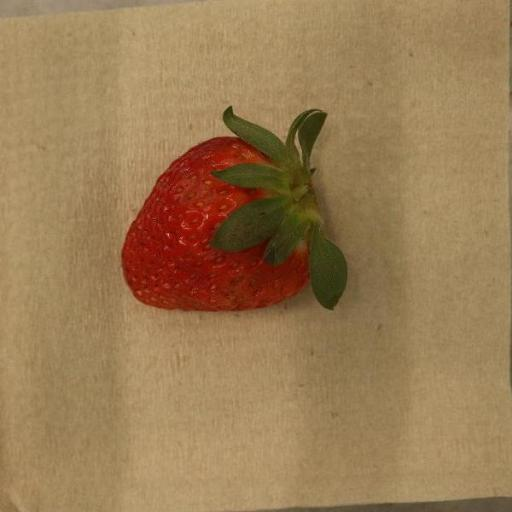Strawberry: (121, 107, 349, 312)
